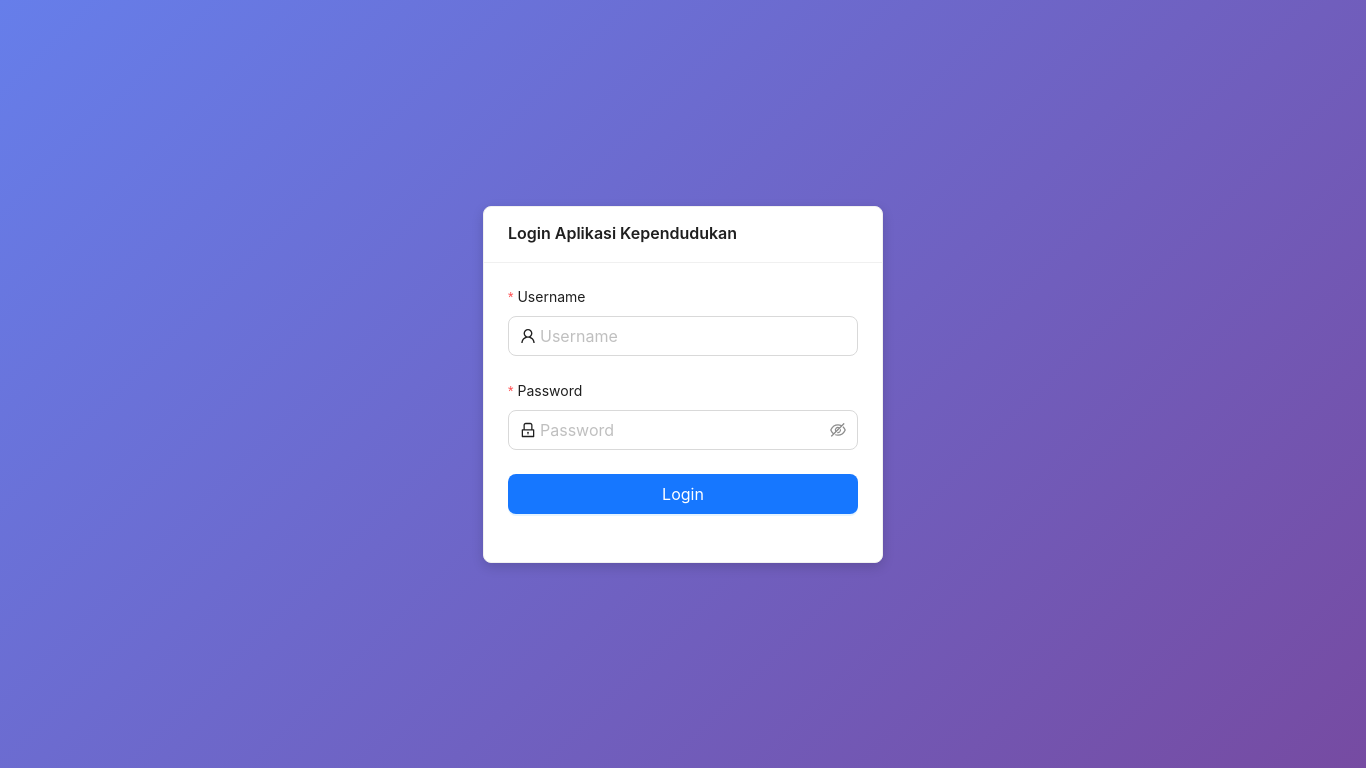
Aplikasi Kependudukan - Comprehensive Login Tests › Authentication Flow › should show error with empty password
In the field with placeholder "Username": (693, 336) [540,324,846,348], type "admin"
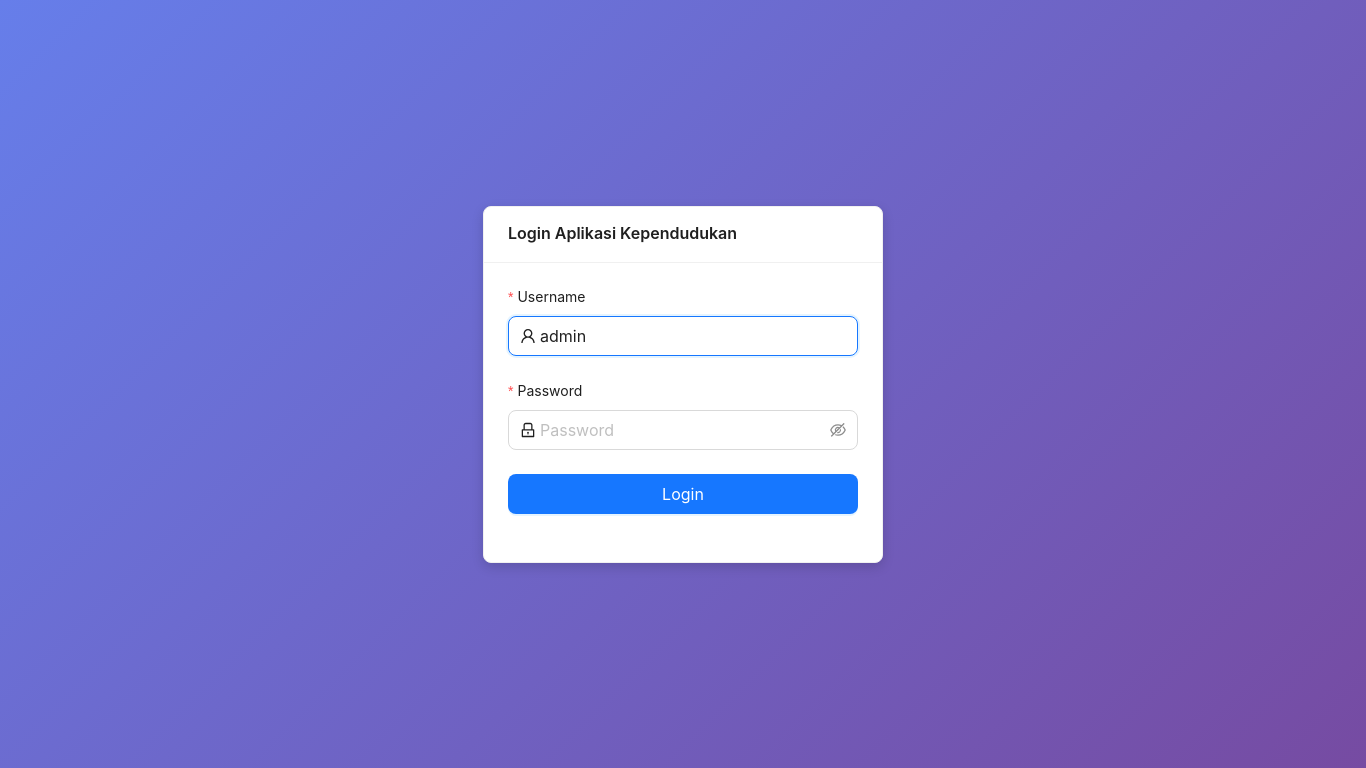
Click the submit button: (683, 494) [508,474,858,514]
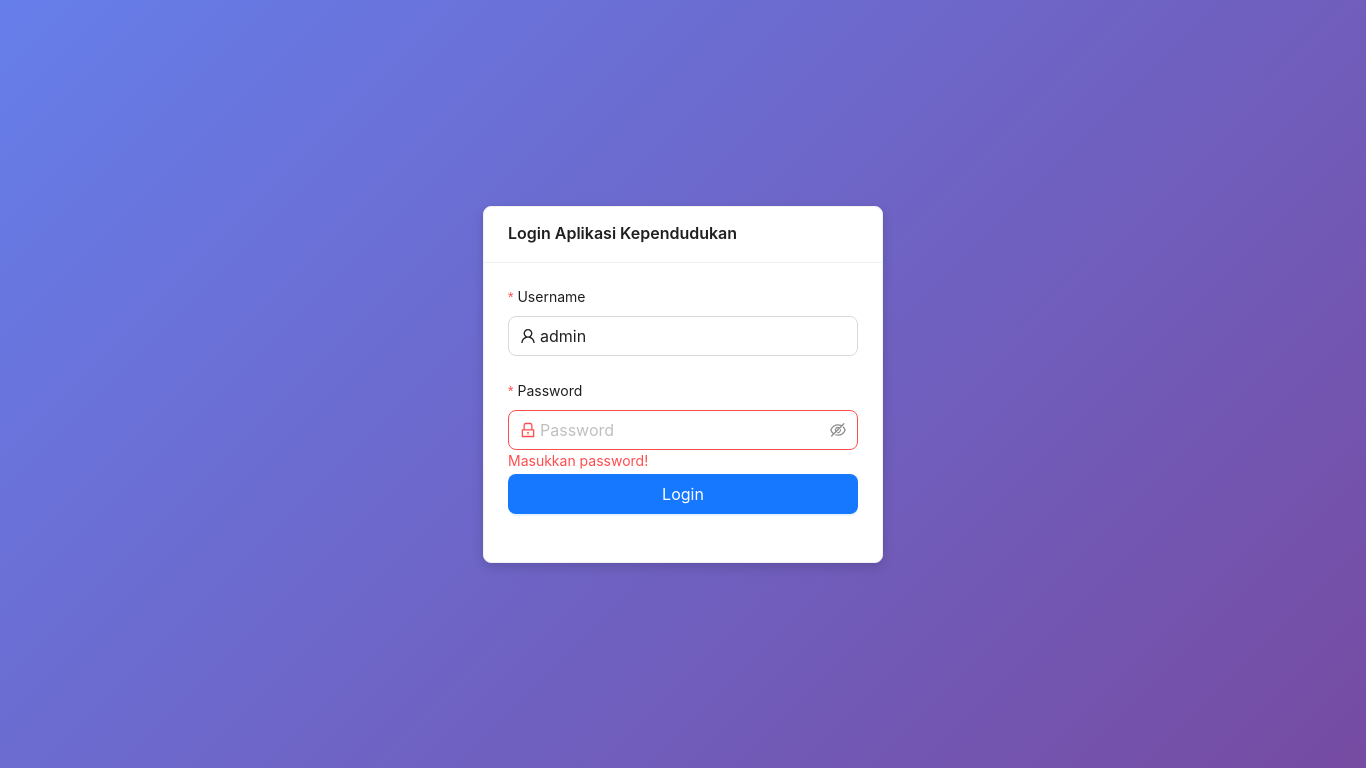
Now the text "Masukkan password!" is shown, box [508,452,648,468]
